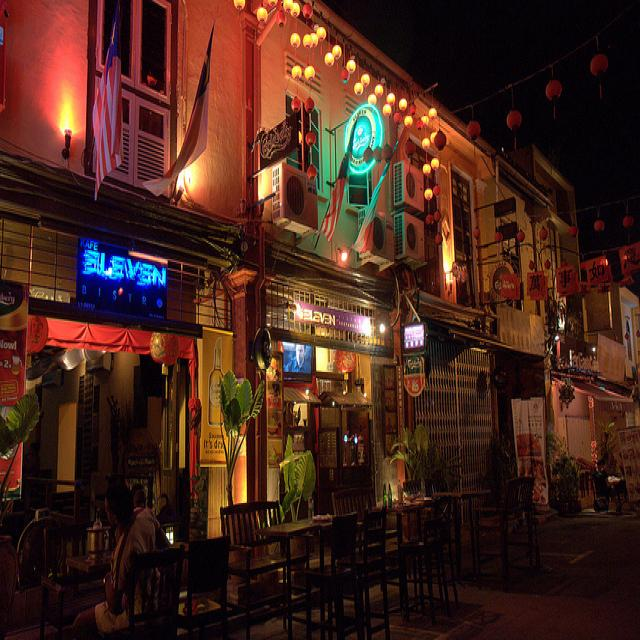Table: (248, 462, 382, 568), (96, 470, 174, 630)
chair: (217, 459, 290, 605), (307, 505, 371, 625), (9, 474, 70, 591), (422, 475, 475, 598), (367, 488, 408, 616)
